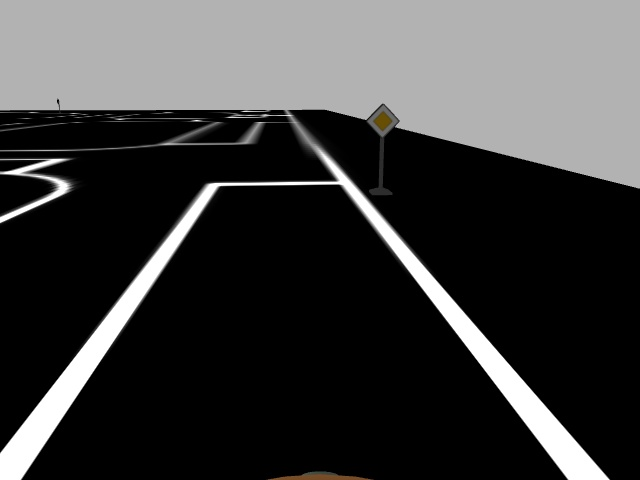priority: (364, 102, 400, 138)
